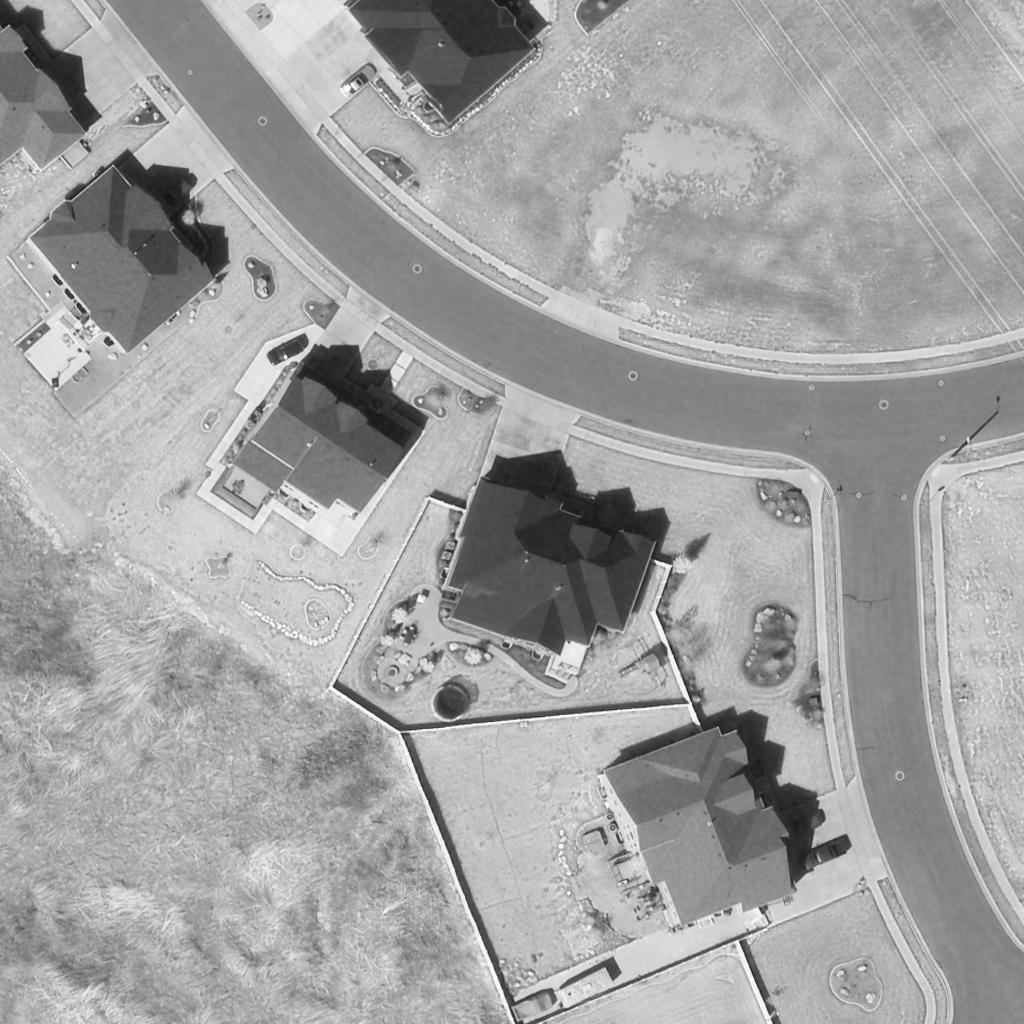vehicle: (553, 965, 617, 1011), (801, 841, 849, 873), (339, 63, 379, 99), (511, 994, 555, 1022), (155, 179, 193, 211), (266, 340, 304, 368), (785, 812, 823, 838)
